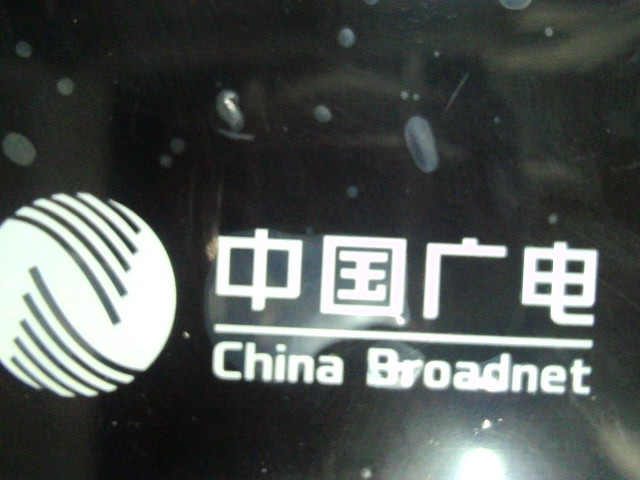AW_ChinaBroadNet: (4, 187, 600, 404)
